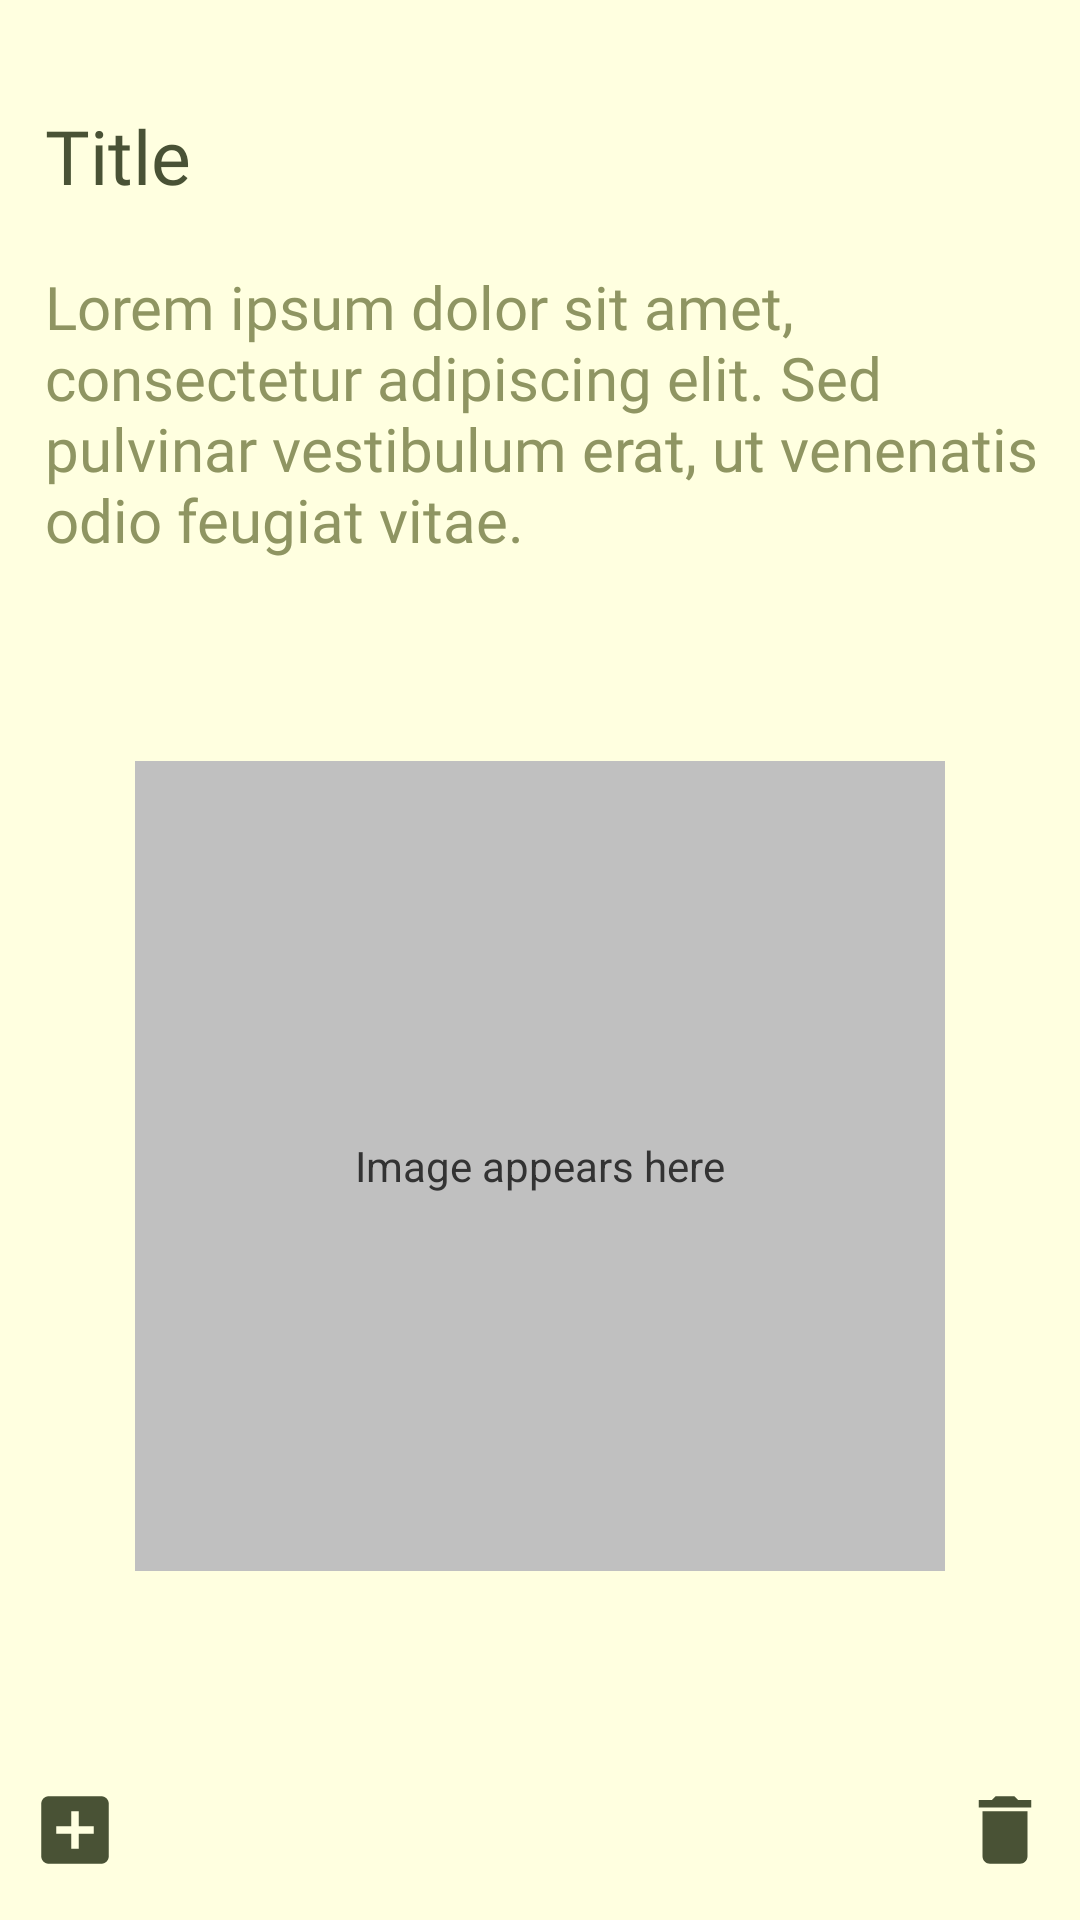

Named icons in this screenshot (1080*1920) and their centers, (x=x, y=y):
add box: (x=75, y=1830)
delete: (x=1005, y=1830)
